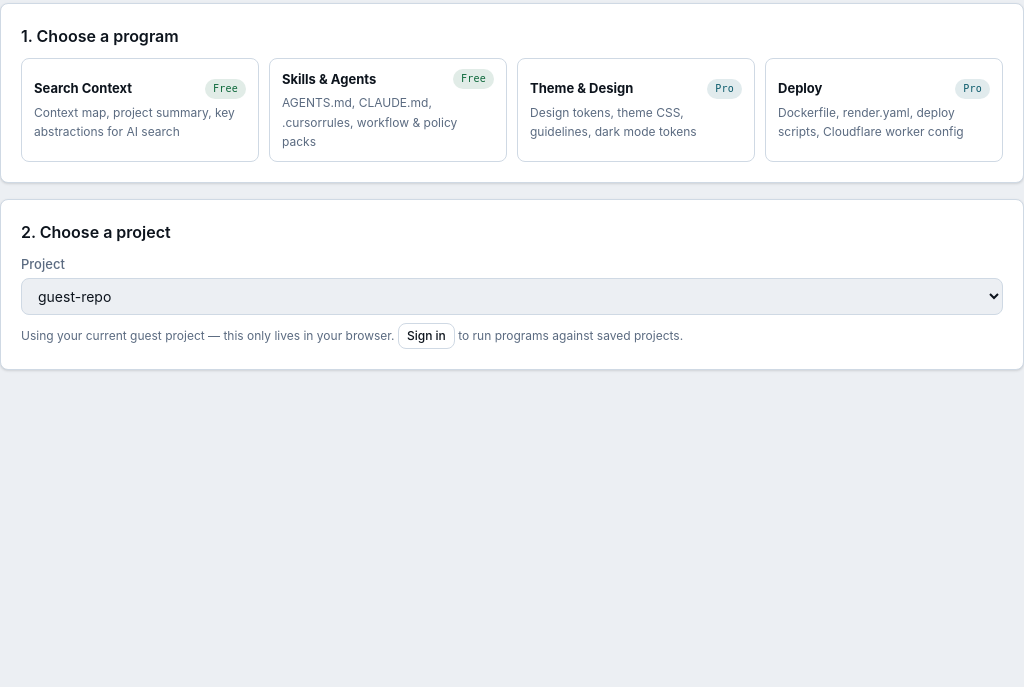
it: RunnerPage — running a program (free + honest staged status + results) › a non-billing run failure shows a Callout with retry — not a raw error dump
Expected: the text "Search Context" is shown, 34,78 -> 132,99
Click the button "Search Context" at (140, 110), box 21,58 -> 259,162
(page scrolled)
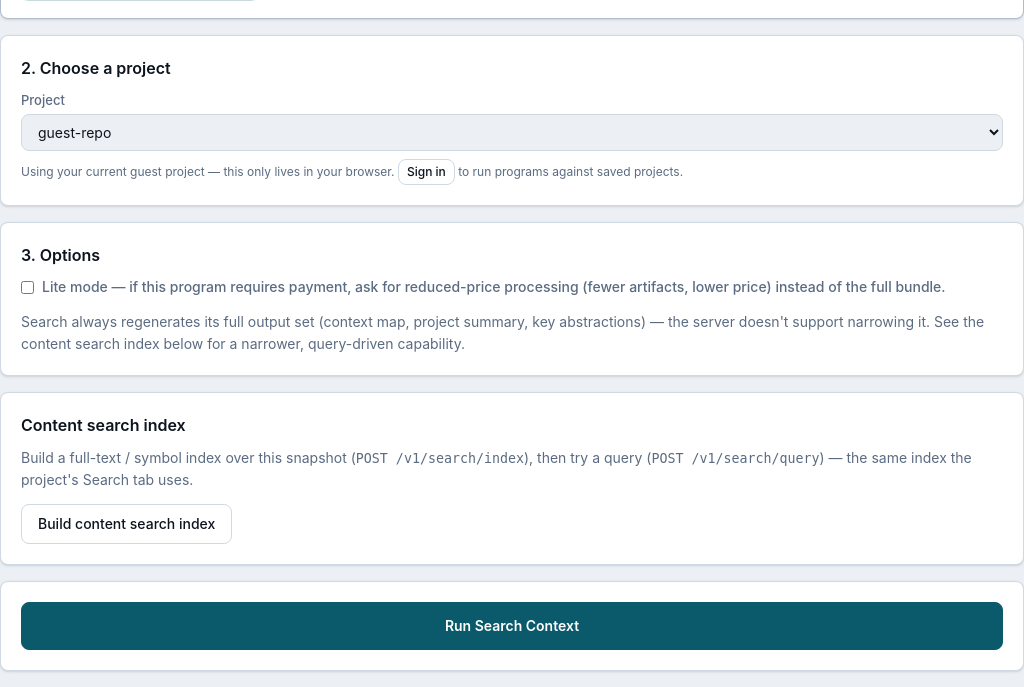
Click the button "Run Search Context" at (512, 626), box 21,602 -> 1003,650
(page scrolled)
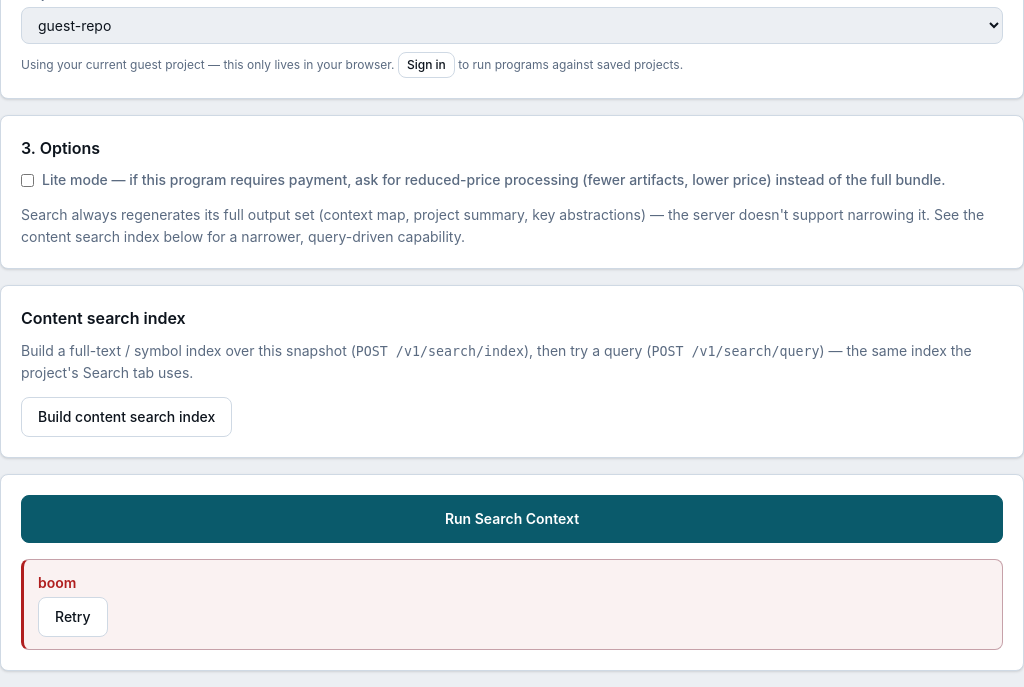
Expected: the text "boom" is shown, 38,574 -> 76,592
Expected: the button "Retry" is shown, 38,597 -> 108,637
